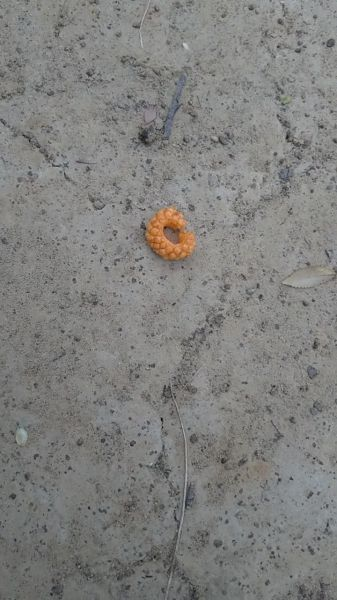eggs: (144, 204, 198, 267)
